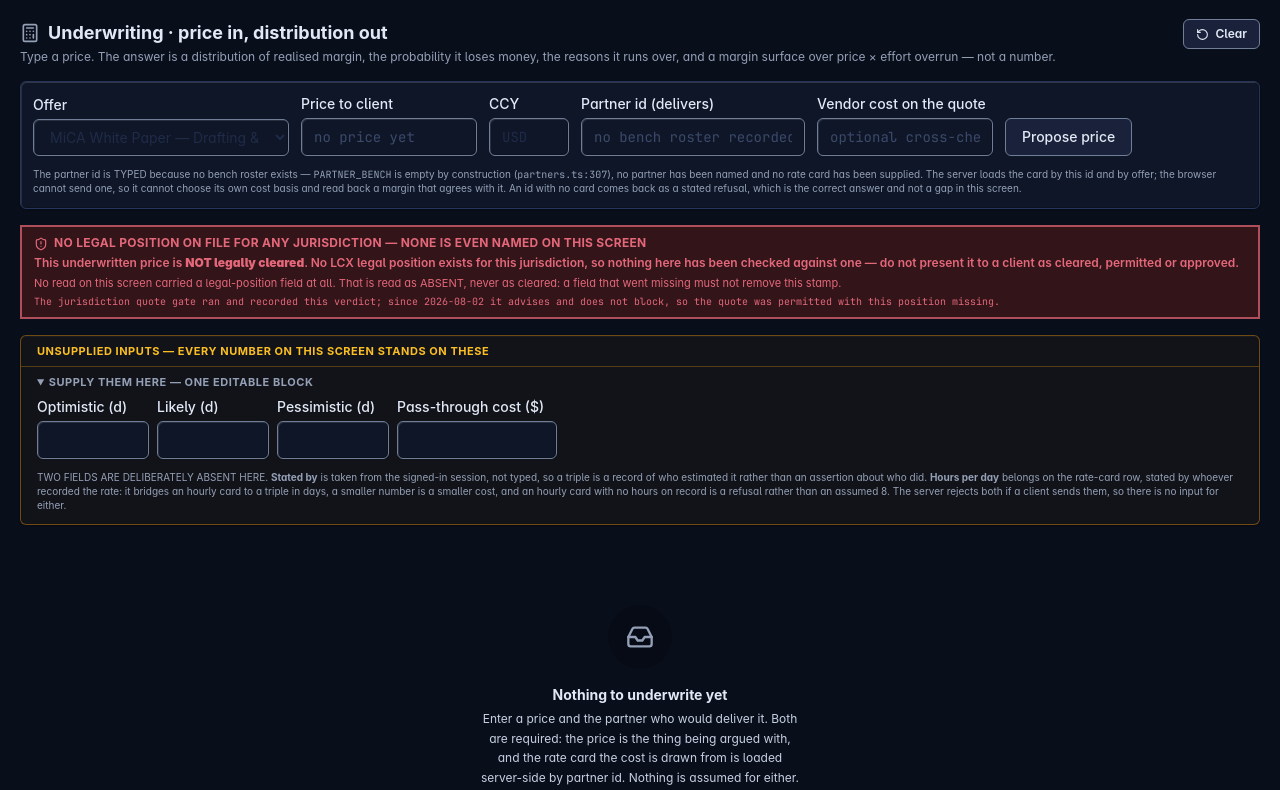
Test: a loss-making price › makes P(margin < 0) the headline and says the price is wrong in words
This screenshot has width=1280, height=790.
Type "10000" into the field with test id "price-input" at [389, 137], box [301,118,477,156]
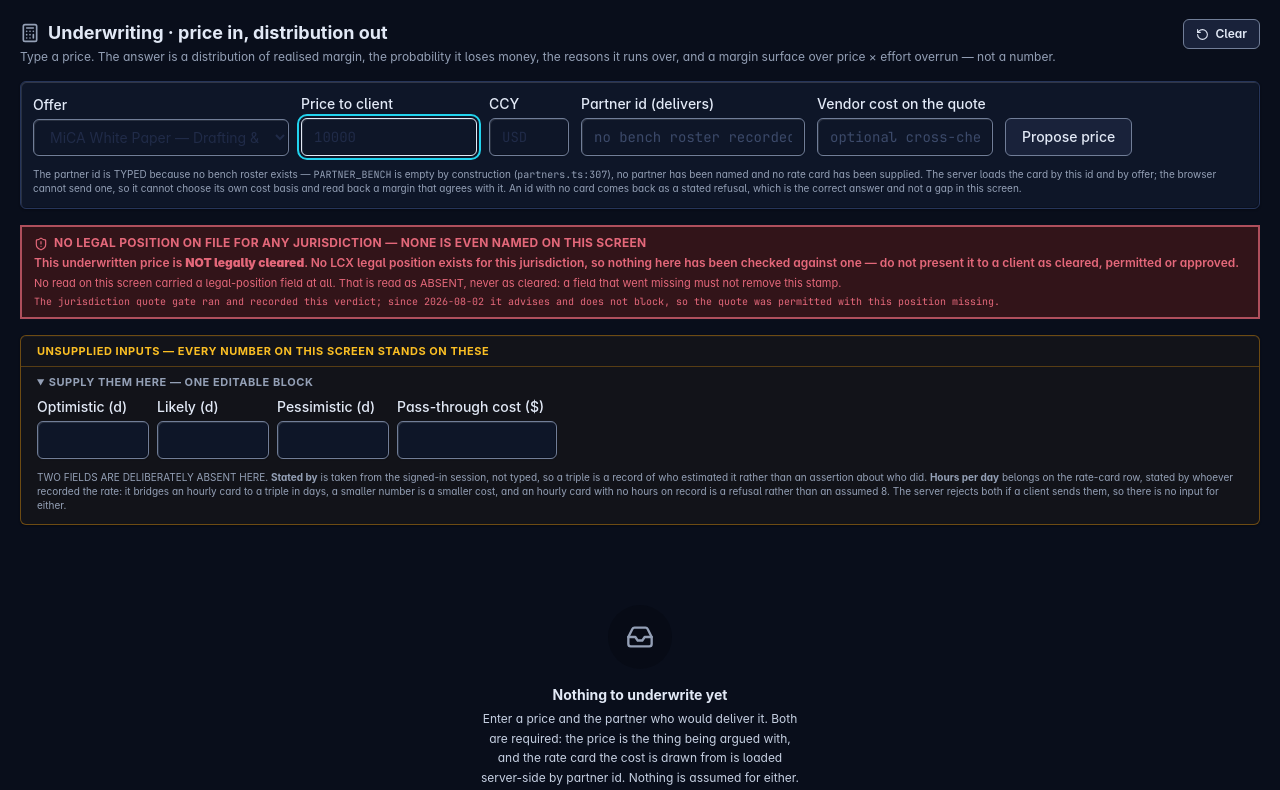
Type "partner-1" into the field with test id "partner-input" at [693, 137], box [581,118,805,156]
(page scrolled)
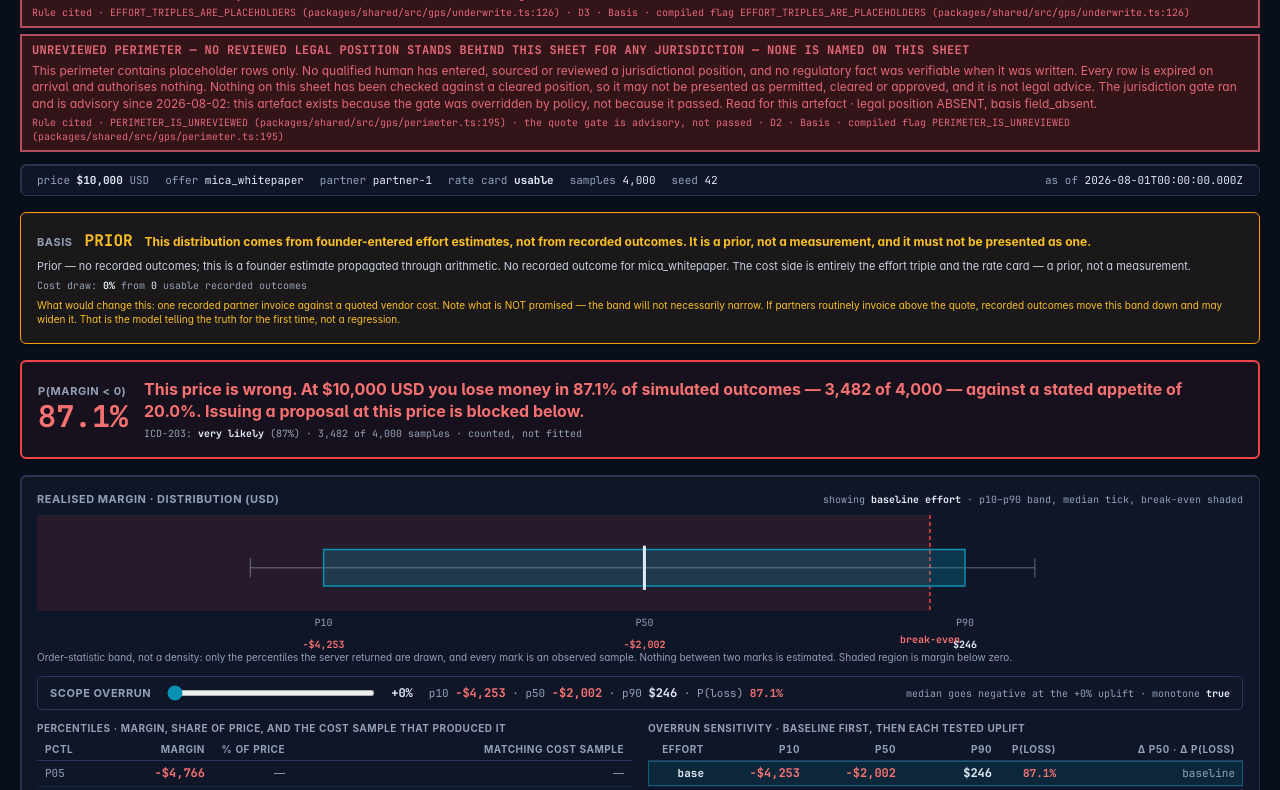
expect the text with test id "price-is-wrong" shows "This price is wrong": met, box [144,378,322,398]
expect the text with test id "price-is-wrong" shows "lose money in": met, box [424,378,573,398]
